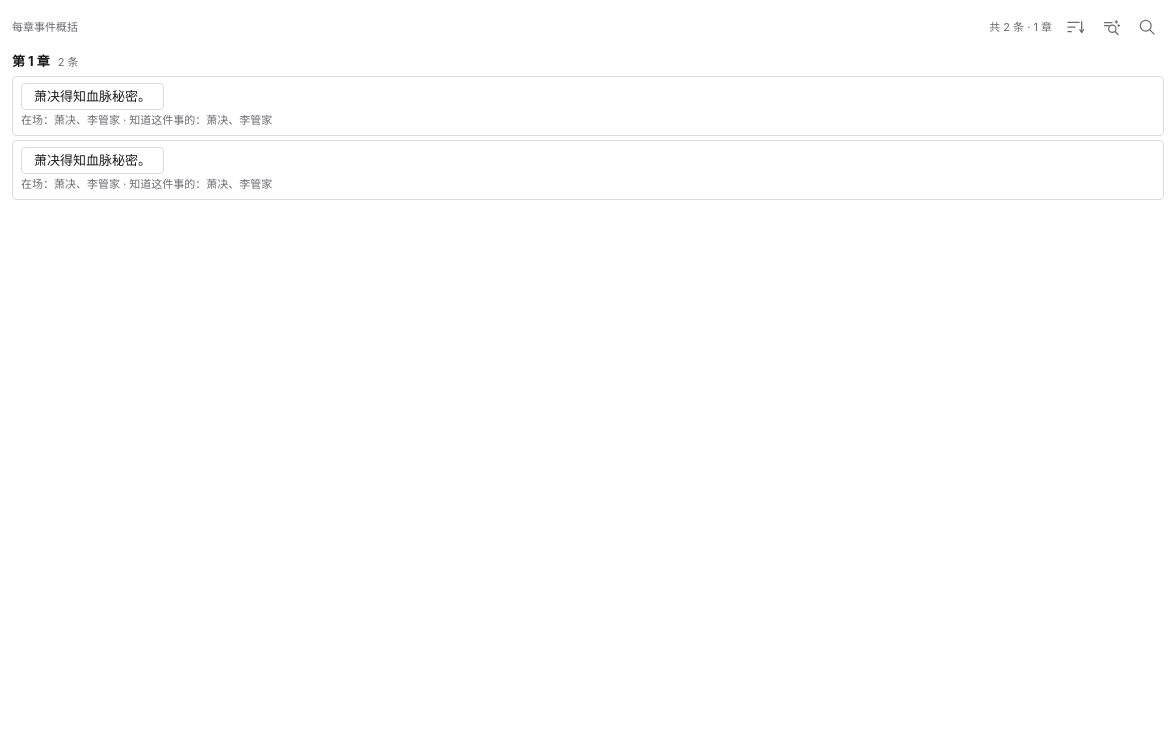
已确认的情节：谁在场、谁知道了 › 分析连 run 都没建出来（POST 500）也要说一句，不许只闪一下
Click the button named "分析本章": (1111, 27) [1094,12,1128,42]
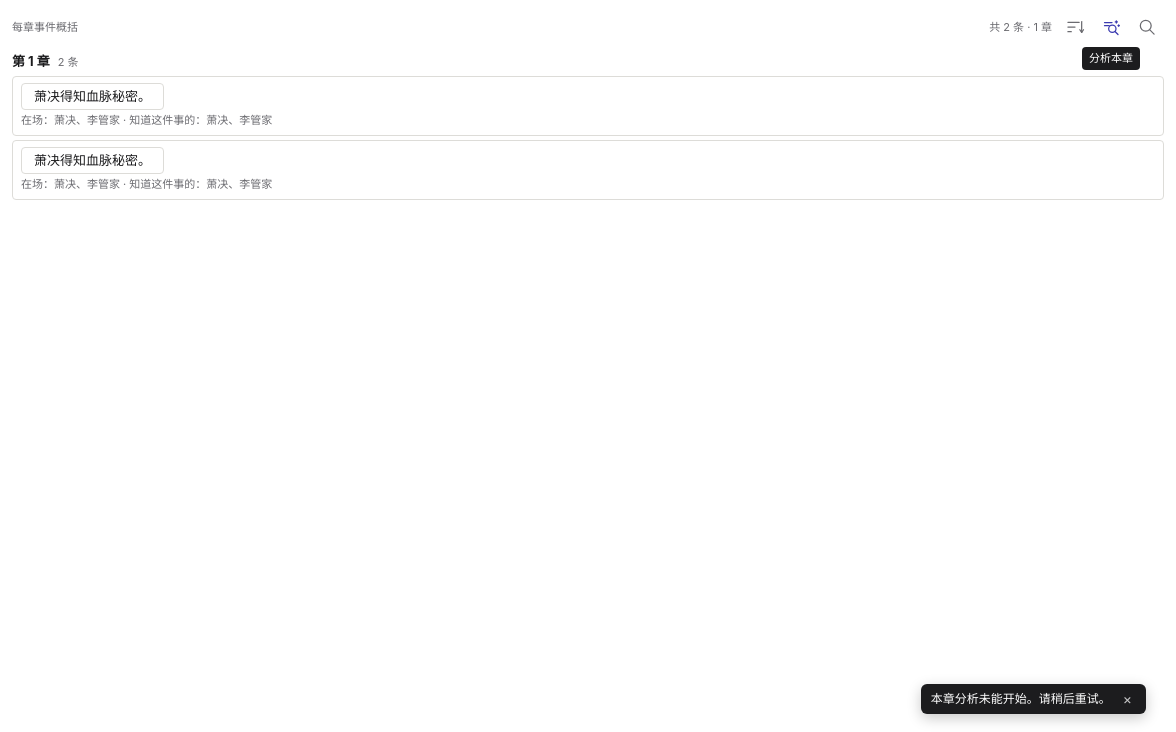
Check: the text "本章分析未能开始。请稍后重试。 ×" is shown, box [921,684,1146,714]
